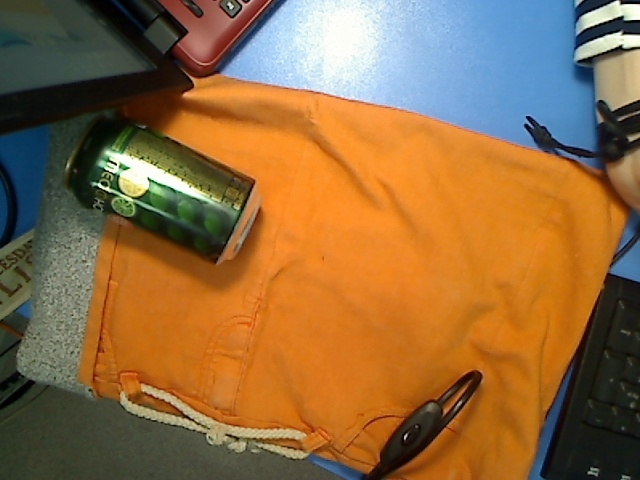can: (61, 115, 262, 267)
